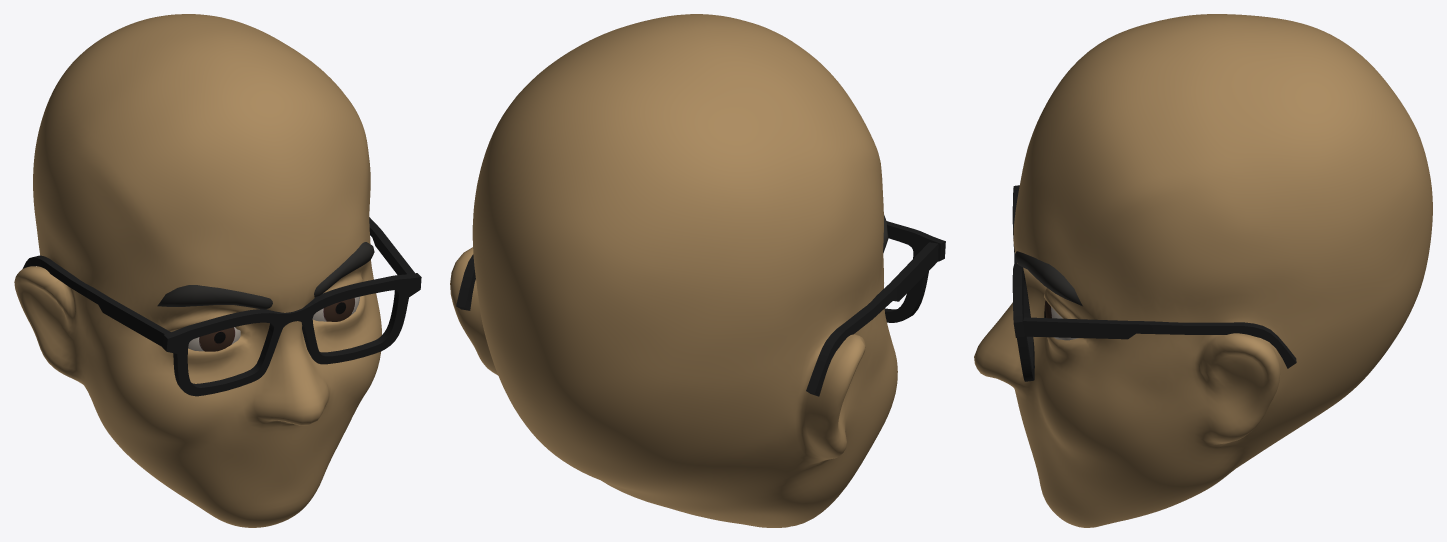
The model's file is head.fbx.
3 views of the same model, side by side, from view 1: azimuth 30°, elevation 25°; view 2: azimuth 150°, elevation 25°; view 3: azimuth 270°, elevation 25° (orthographic). The views are drawn at different scales.
Visible parts, largest first — view 1: Head; view 2: Head; view 3: Head.
Part boxes in pixels (x1,y1,x2,y2): Head: (14, 14, 421, 527); Head: (450, 14, 945, 527); Head: (974, 14, 1432, 527).
Size of the model in its own units: 30.65 by 39.18 by 33.41.
1 material, 1 textured.
